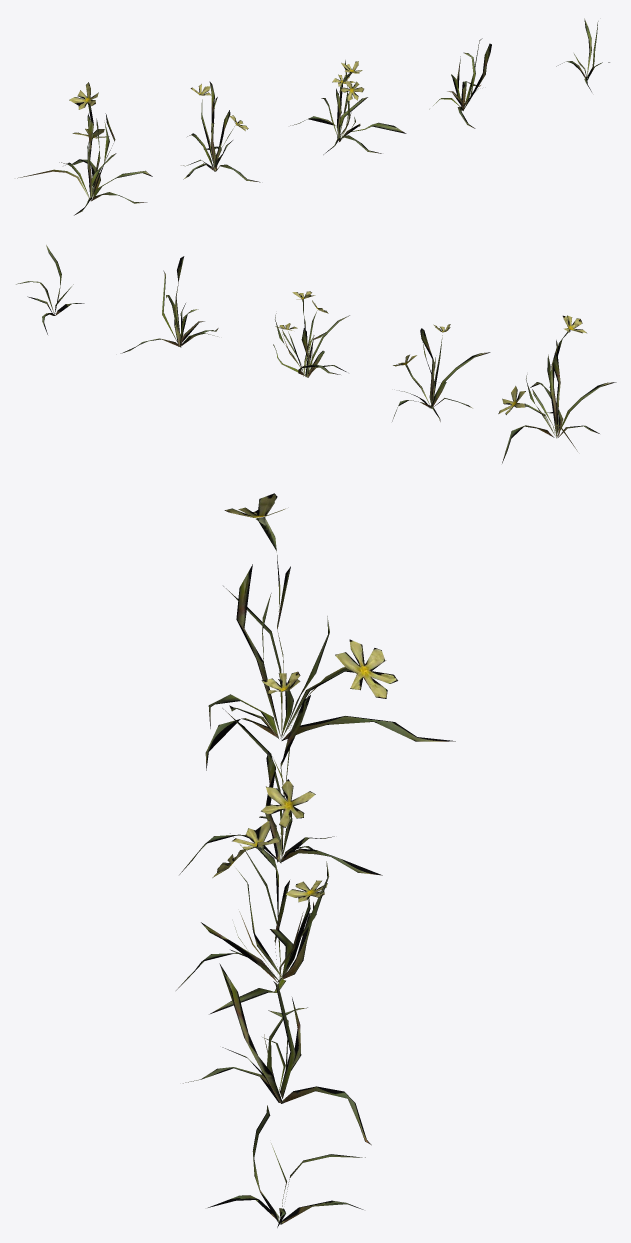
File: flower_a.glb
3 views of the same model, one above another, from view 1: azimuth 30°, elevation 25°; view 2: azimuth 150°, elevation 25°; view 3: azimuth 270°, elevation 25° (orthographic). The views are drawn at different scales.
Parts seen in each view (by area): view 1: flower_empodium_a_LOD0, flower_empodium_c_LOD0, flower_empodium_b_LOD0, flower_empodium_d_LOD0, flower_empodium_e_LOD0; view 2: flower_empodium_a_LOD0, flower_empodium_c_LOD0, flower_empodium_b_LOD0, flower_empodium_d_LOD0, flower_empodium_e_LOD0; view 3: flower_empodium_a_LOD0, flower_empodium_c_LOD0, flower_empodium_b_LOD0, flower_empodium_d_LOD0, flower_empodium_e_LOD0.
Boxes of the visible parts, x1,y1,x2,y2 form: flower_empodium_a_LOD0: (17, 82, 152, 215); flower_empodium_c_LOD0: (290, 60, 406, 154); flower_empodium_b_LOD0: (181, 81, 260, 182); flower_empodium_d_LOD0: (429, 38, 491, 128); flower_empodium_e_LOD0: (556, 18, 609, 91); flower_empodium_a_LOD0: (498, 315, 616, 463); flower_empodium_c_LOD0: (273, 291, 349, 377); flower_empodium_b_LOD0: (392, 324, 490, 421); flower_empodium_d_LOD0: (120, 256, 218, 353); flower_empodium_e_LOD0: (16, 245, 84, 334); flower_empodium_a_LOD0: (205, 493, 455, 770); flower_empodium_c_LOD0: (176, 820, 328, 1014); flower_empodium_b_LOD0: (179, 671, 382, 875); flower_empodium_d_LOD0: (183, 963, 371, 1145); flower_empodium_e_LOD0: (208, 1105, 365, 1227).
Bounding box in the file's own units: 1.32 × 0.2684 × 0.2837.
Materials: 1 (1 with a texture image).
